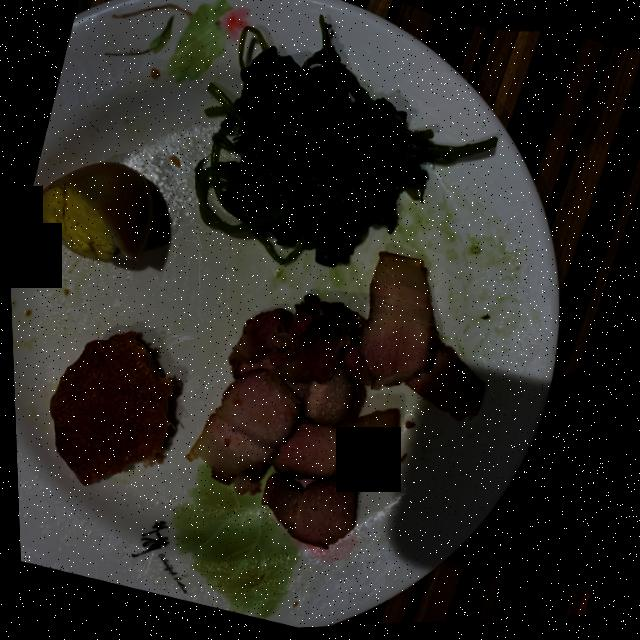Spam: (46, 331, 171, 485)
coin: (537, 467, 596, 528)
grilled pork: (183, 254, 480, 551)
soy egg: (23, 162, 151, 261)
sweet potato leaves: (193, 18, 494, 268)
